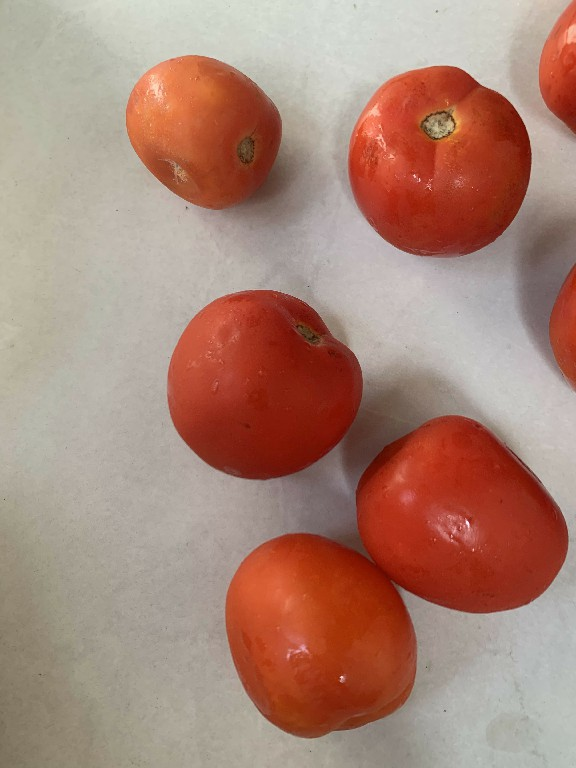NG: (122, 51, 289, 215)
OK: (355, 404, 572, 630), (216, 526, 421, 746), (154, 278, 366, 485), (347, 54, 539, 269)
